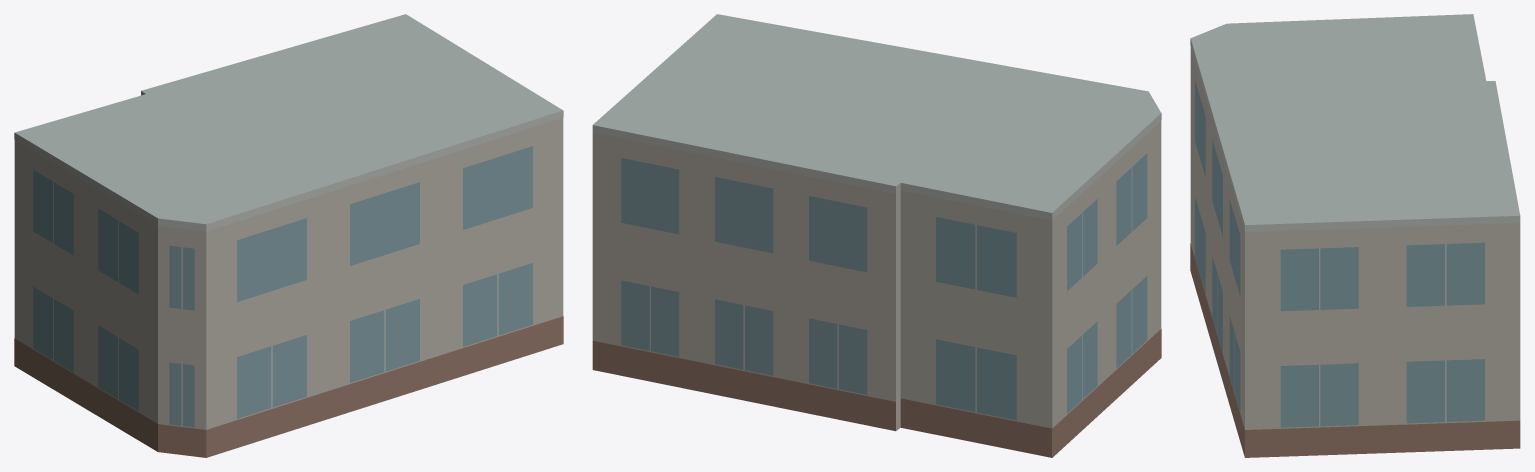
File: survey-upis-32701428.glb
3 renders of one model, left to right at view 1: azimuth 30°, elevation 25°; view 2: azimuth 150°, elevation 25°; view 3: azimuth 270°, elevation 25°, orthographic. The views are drawn at different scales.
Parts seen in each view (by area): view 1: survey-upis-32701428.tmp; view 2: survey-upis-32701428.tmp; view 3: survey-upis-32701428.tmp.
Part boxes in pixels (<box>): survey-upis-32701428.tmp: <box>14,14,563,457</box>; survey-upis-32701428.tmp: <box>592,14,1161,457</box>; survey-upis-32701428.tmp: <box>1190,14,1520,457</box>.
Size of the model in its own units: 15.28 by 7.85 by 10.09.
